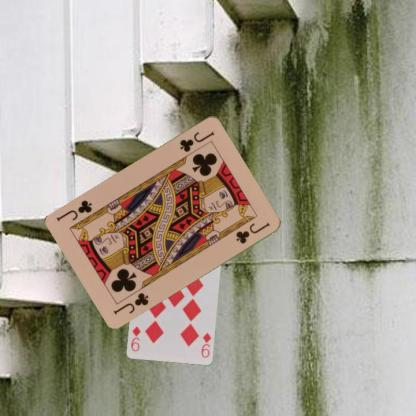9d: (199, 330, 212, 359)
Jc: (111, 290, 150, 316), (177, 128, 216, 153)
